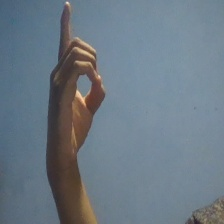D: (42, 1, 110, 165)
